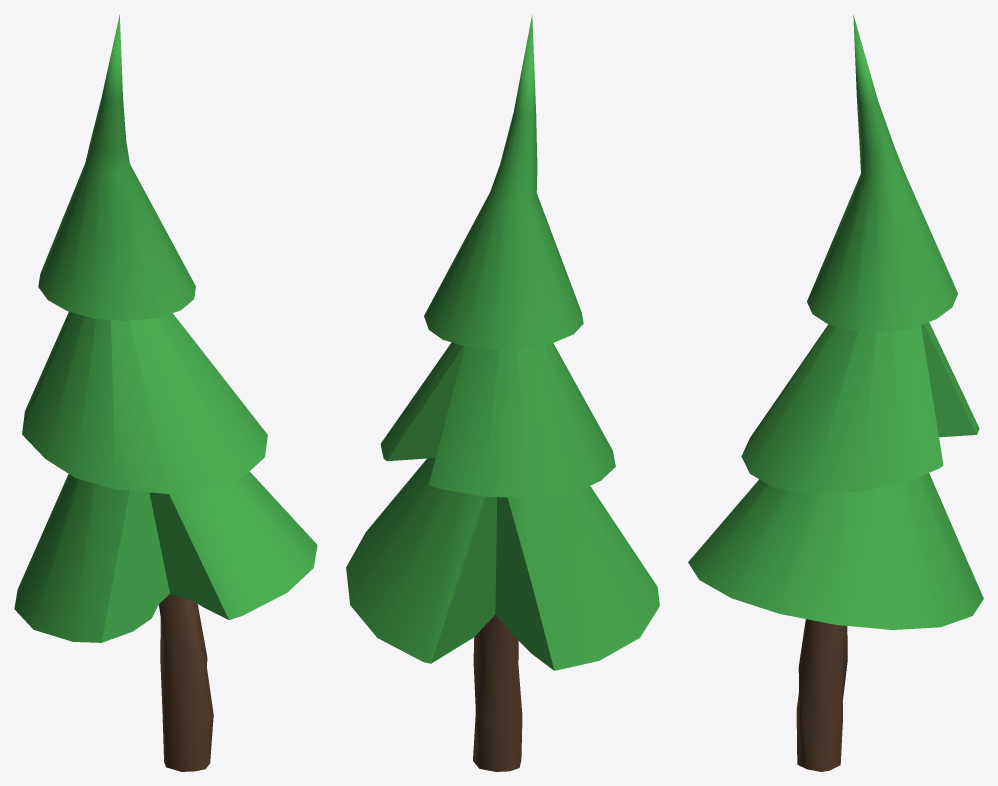
The model's file is WF_PCGTree.14.glb.
3 views of the same model, side by side, from view 1: azimuth 30°, elevation 25°; view 2: azimuth 150°, elevation 25°; view 3: azimuth 270°, elevation 25° (orthographic). The views are drawn at different scales.
Visible parts, largest first — view 1: Tree.14; view 2: Tree.14; view 3: Tree.14.
Boxes of the visible parts, x1,y1,x2,y2 form: Tree.14: (14,15,317,771); Tree.14: (346,15,659,771); Tree.14: (688,15,983,771).
Bounding box in the file's own units: 0.44 × 1.19 × 0.44.
